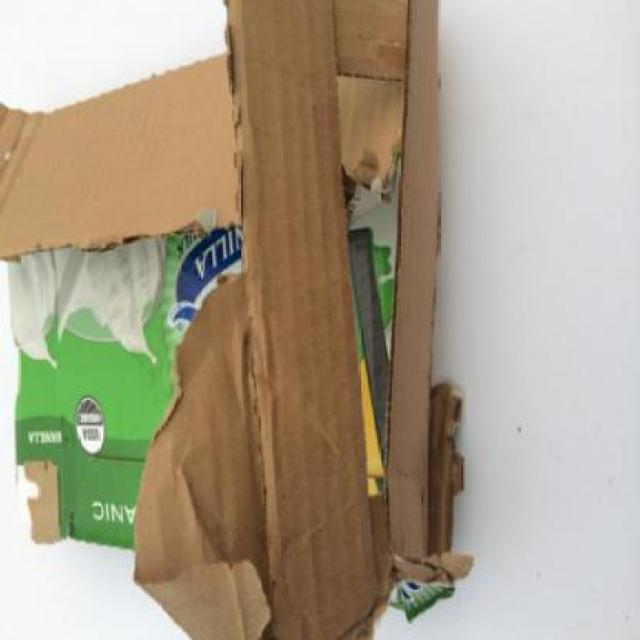box: (0, 1, 503, 640)
